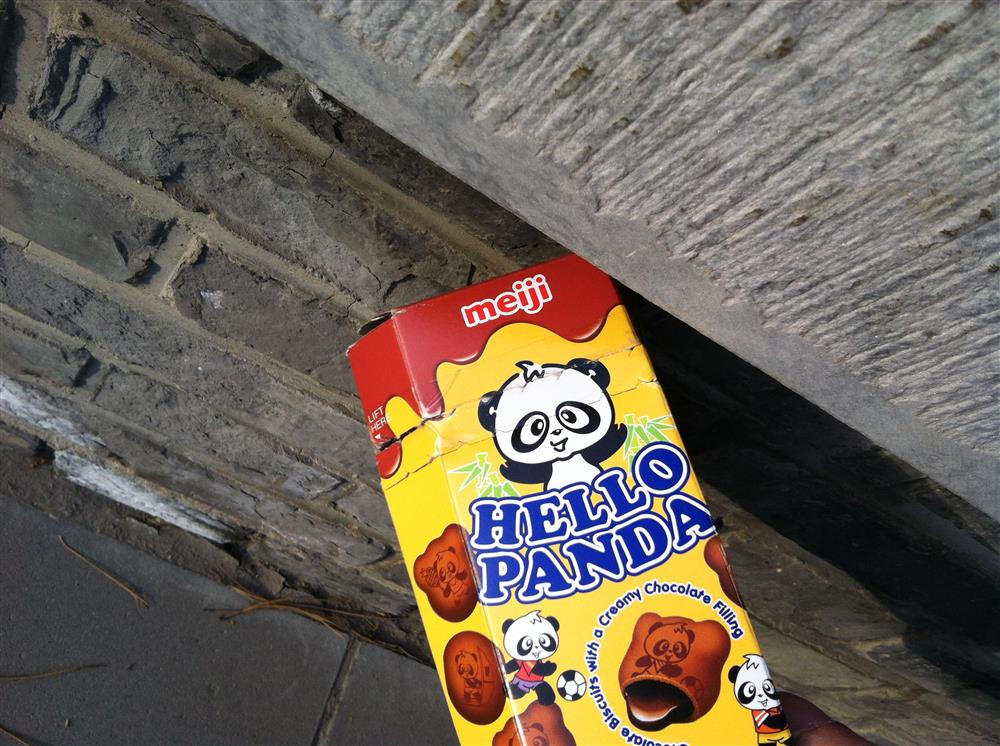HelloPanda: (348, 248, 806, 741)
